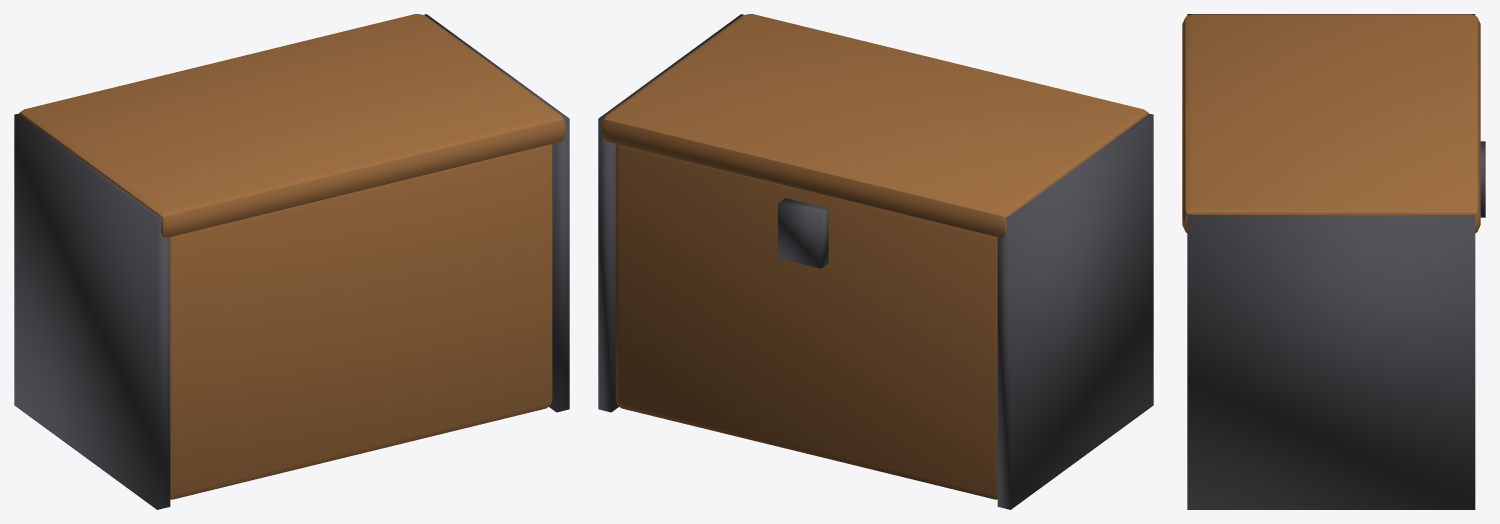
Rendered from chest.glb.
The picture shows the model from 3 angles, left to right: view 1: azimuth 30°, elevation 25°; view 2: azimuth 150°, elevation 25°; view 3: azimuth 270°, elevation 25°; orthographic projection.
Parts seen in each view (by area): view 1: Chest; view 2: Chest; view 3: Chest.
Boxes of the visible parts, x1=… form: Chest: x1=14, y1=14, x2=569, y2=509; Chest: x1=598, y1=14, x2=1153, y2=509; Chest: x1=1182, y1=14, x2=1485, y2=509.
Size of the model in its own units: 0.95 by 0.65 by 0.6.
